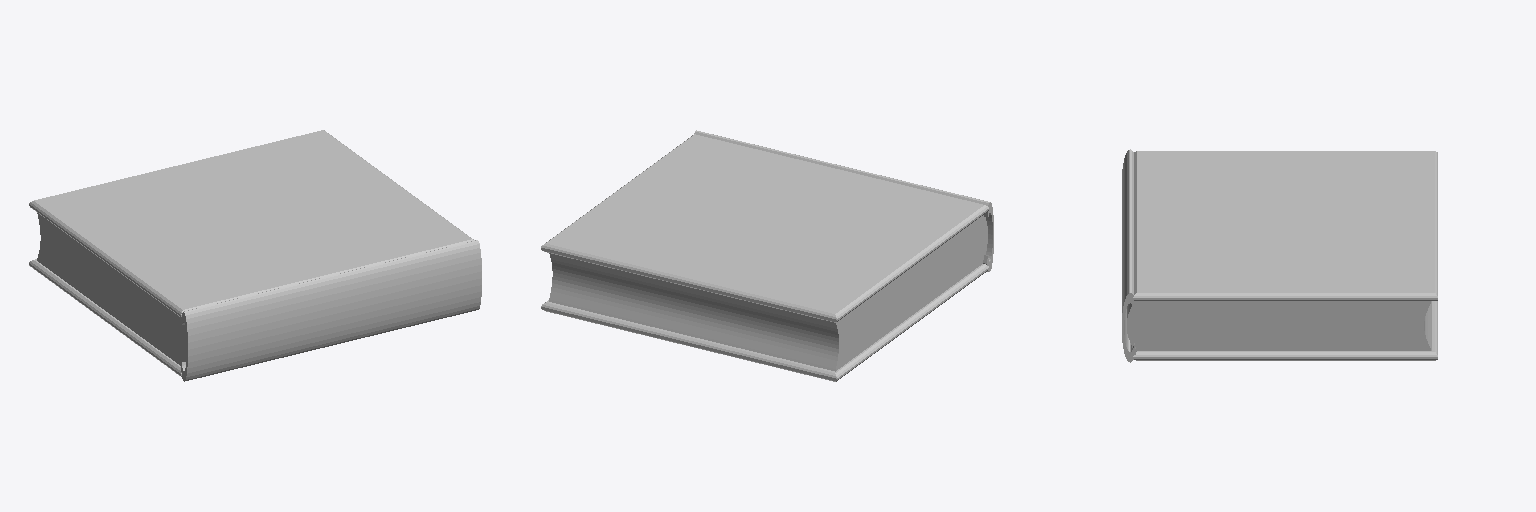
The model's file is grimoir.obj.
3 renders of one model, left to right at view 1: azimuth 30°, elevation 25°; view 2: azimuth 150°, elevation 25°; view 3: azimuth 270°, elevation 25°, orthographic.
Visible parts, largest first — view 1: Cube.001, Cylindre, Cube.002; view 2: Cube.001, Cube.002, Cylindre; view 3: Cube.001, Cube.002, Cylindre.
Part boxes in pixels (x1,y1,x2,y2): Cube.001: (29,130,474,376); Cylindre: (181,240,481,381); Cube.002: (37,213,186,365); Cube.001: (541,134,988,381); Cube.002: (549,215,987,371); Cylindre: (694,130,993,271); Cube.001: (1133,151,1437,360); Cube.002: (1127,301,1431,350); Cylindre: (1122,149,1135,362).
Size of the model in its own units: 0.2067 by 0.0466 by 0.1914.